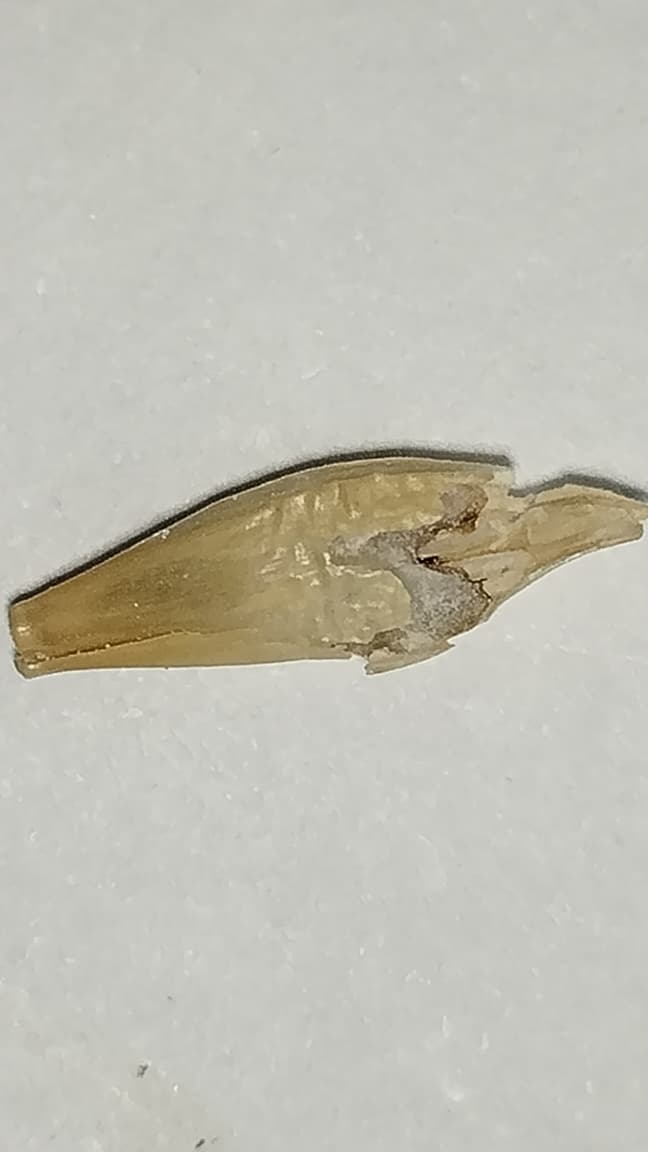damage: (2, 453, 647, 680)
insectdamage: (328, 492, 493, 673), (306, 444, 535, 504)
